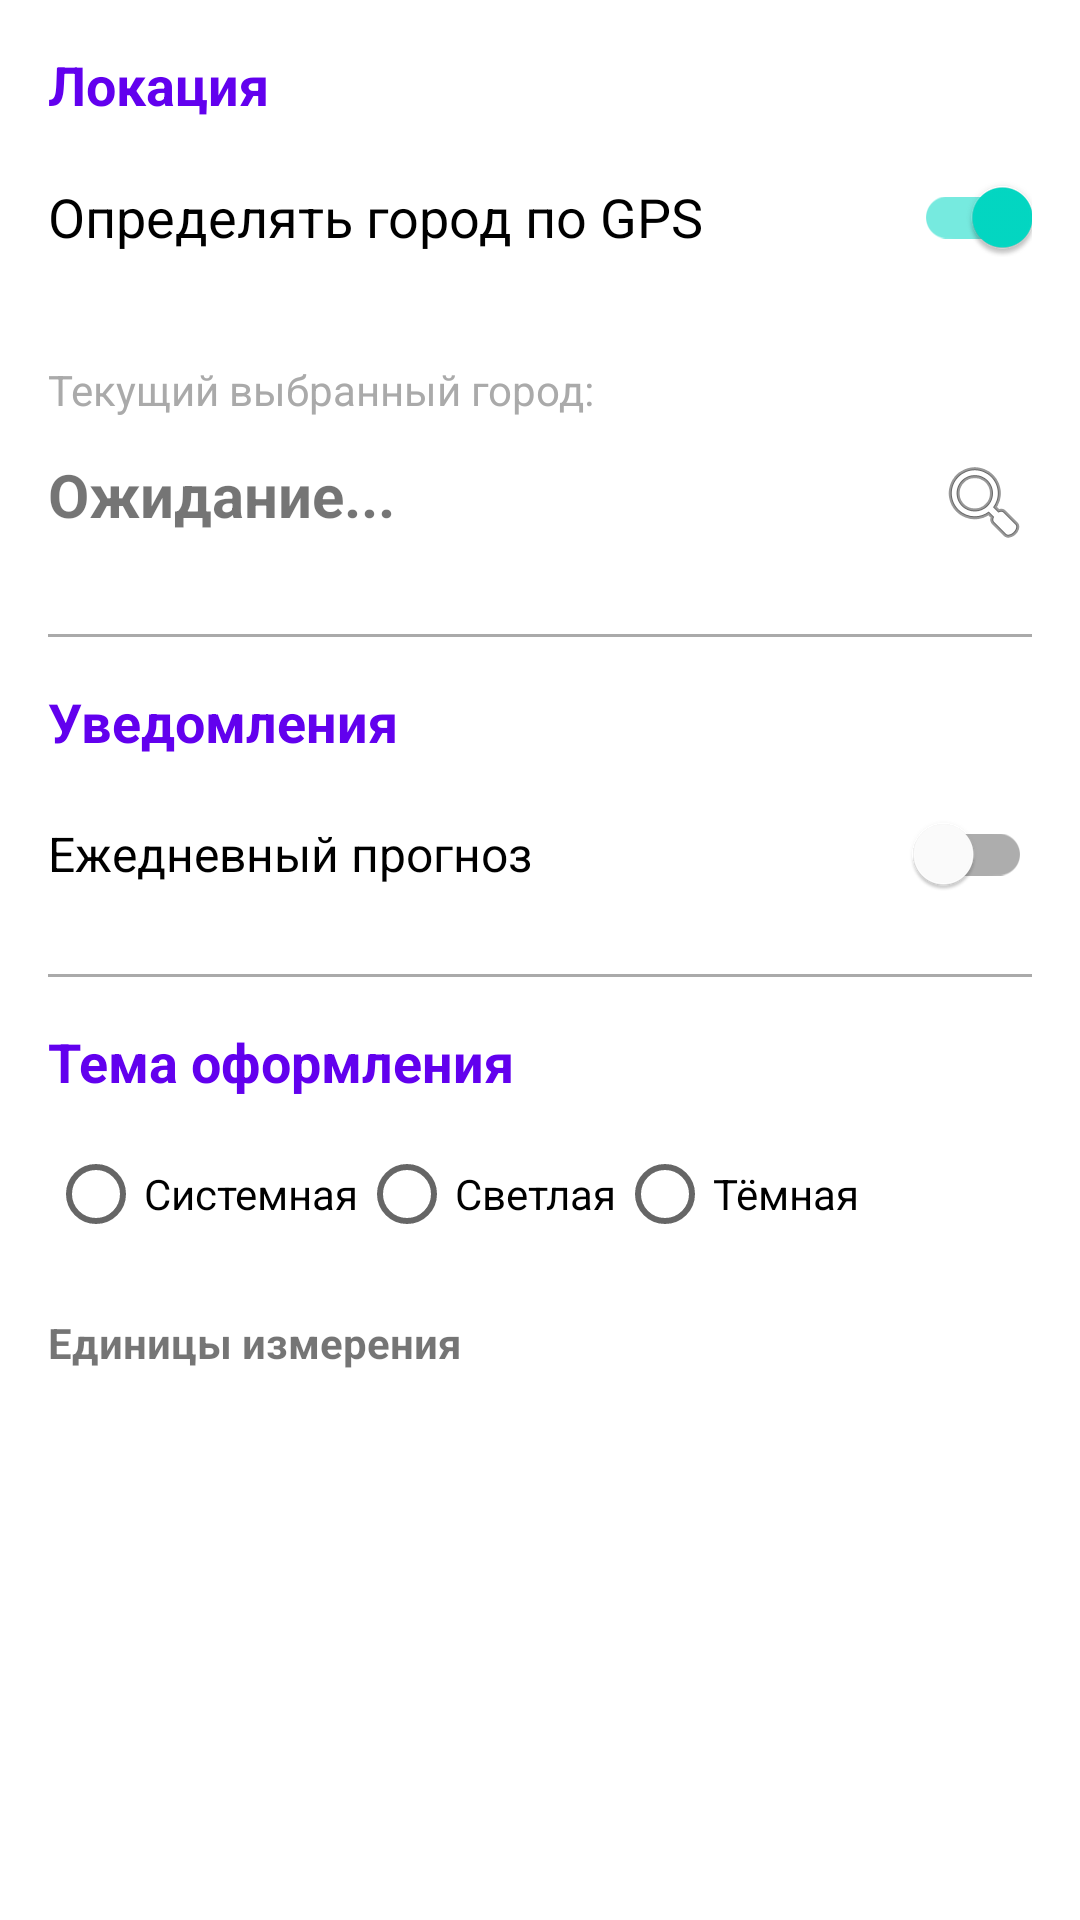

Point at icon controls on the screen. Image size 1080×1920, points as (x=x, y=y).
Поиск города: (x=984, y=502)
